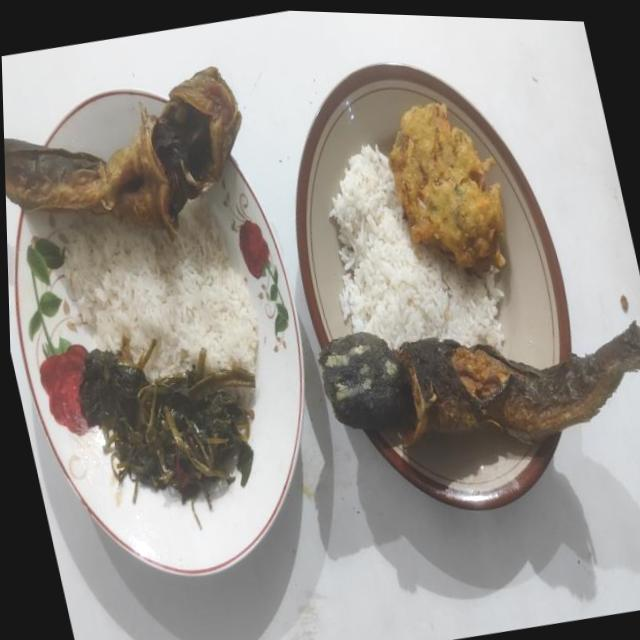nasi_putih: (330, 145, 505, 350), (64, 200, 258, 378)
tumis_kangkung: (79, 340, 254, 528)
